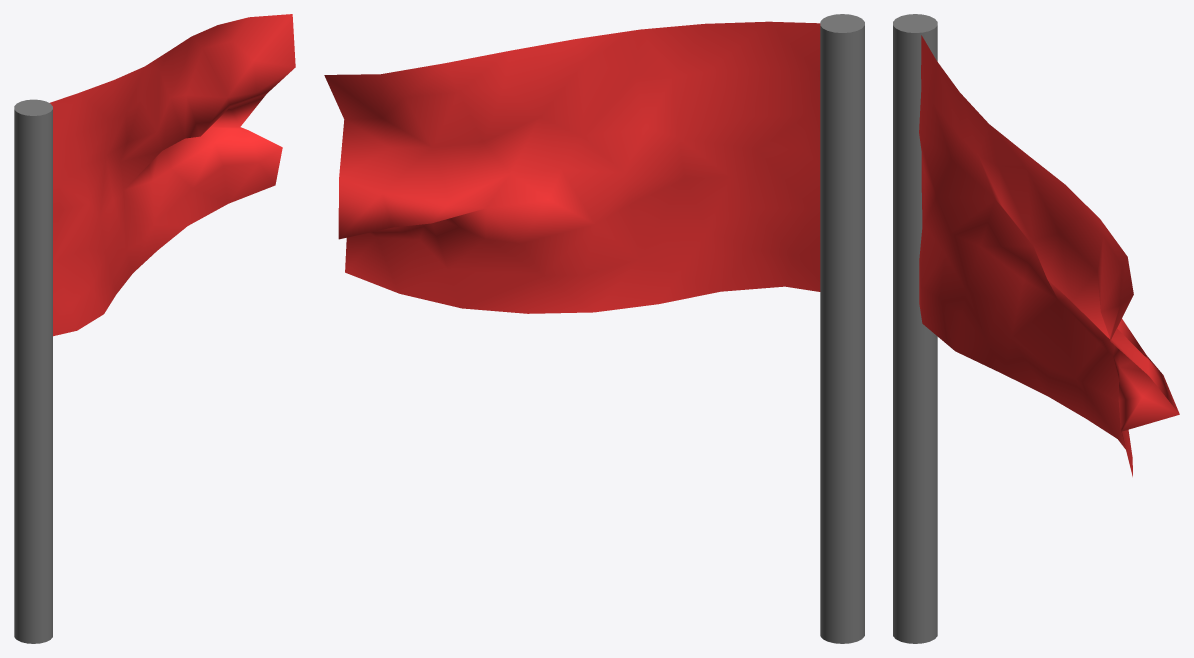
File: gfsgfs.fbx
3 renders of one model, left to right at view 1: azimuth 30°, elevation 25°; view 2: azimuth 150°, elevation 25°; view 3: azimuth 270°, elevation 25°, orthographic. The views are drawn at different scales.
Parts seen in each view (by area): view 1: Rectangle001, Cylinder001; view 2: Rectangle001, Cylinder001; view 3: Rectangle001, Cylinder001.
Part boxes in pixels (bbox=[...]): Rectangle001: bbox=[50, 14, 295, 336]; Cylinder001: bbox=[14, 99, 52, 643]; Rectangle001: bbox=[324, 21, 820, 313]; Cylinder001: bbox=[820, 14, 864, 643]; Rectangle001: bbox=[919, 35, 1179, 476]; Cylinder001: bbox=[893, 14, 937, 643].
Size of the model in its own units: 39.27 by 53.47 by 22.76.
